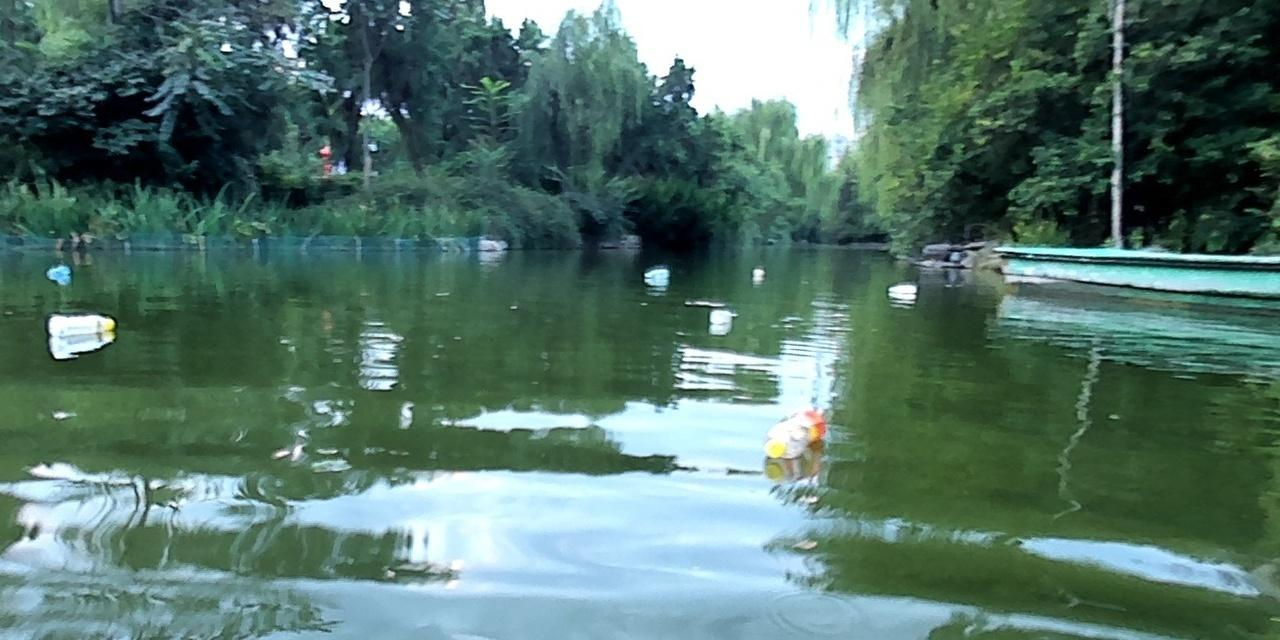bottle: (762, 407, 825, 460), (46, 312, 115, 336), (884, 281, 917, 296), (706, 307, 731, 322), (46, 262, 70, 277), (643, 267, 669, 278), (752, 267, 765, 279)
